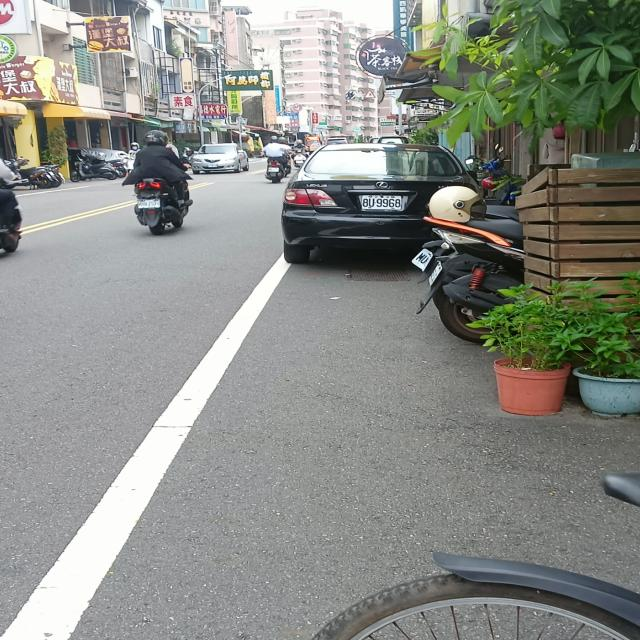license-plate: (359, 194, 406, 211), (136, 200, 162, 208)
